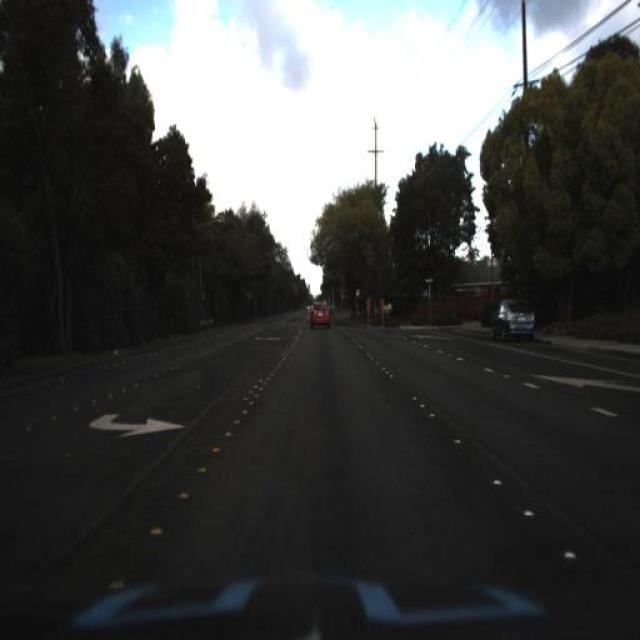car: (485, 294, 537, 344), (307, 292, 333, 337)
